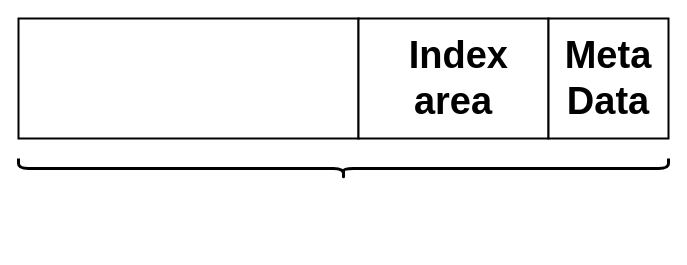
The diagram is 687 pixels wide and 265 high, and some of its shapes have lost their labels. Each missing label, with the box of its shape:
Data area: (17, 17, 359, 139)
SSTable: (16, 156, 670, 180)
